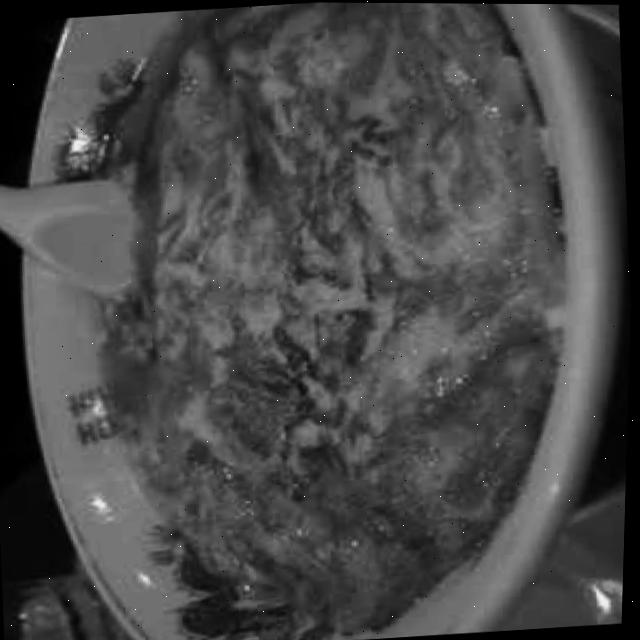面条主食: (57, 0, 605, 640)
